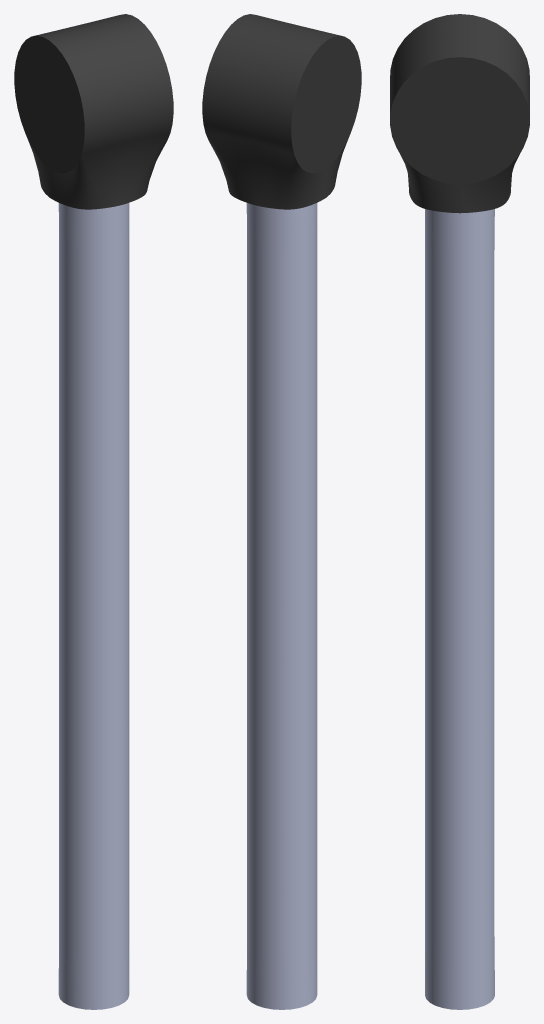
The model's file is rod.obj.
The picture shows the model from 3 angles, left to right: view 1: azimuth 30°, elevation 25°; view 2: azimuth 150°, elevation 25°; view 3: azimuth 270°, elevation 25°; orthographic projection.
Parts seen in each view (by area): view 1: mesh 2 Cut-Extrude1 face, mesh 1 rod; view 2: mesh 2 Cut-Extrude1 face, mesh 1 rod; view 3: mesh 2 Cut-Extrude1 face, mesh 1 rod.
Boxes of the visible parts, x1,y1,x2,y2 form: mesh 2 Cut-Extrude1 face: (58,203,129,1009); mesh 1 rod: (14,14,173,209); mesh 2 Cut-Extrude1 face: (246,203,317,1009); mesh 1 rod: (202,14,361,209); mesh 2 Cut-Extrude1 face: (425,209,494,1009); mesh 1 rod: (390,14,529,213).
Bounding box in the file's own units: 0.16 × 1.66 × 0.2194.
